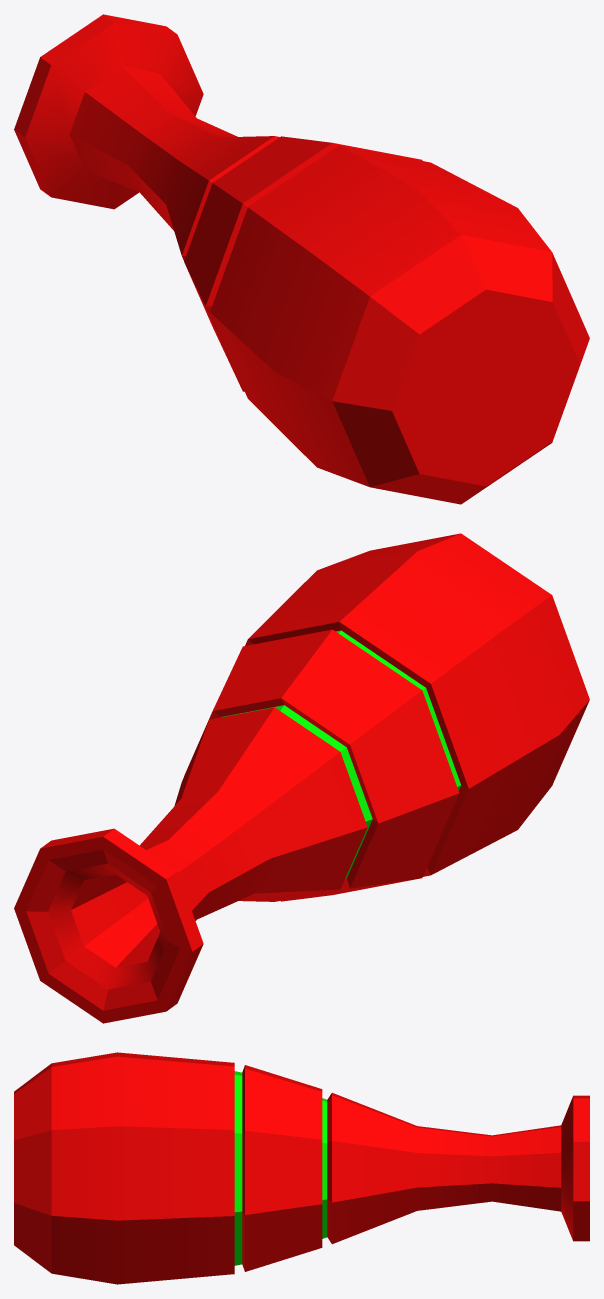
Rendered from Vase_01.fbx.
3 renders of one model, top to bottom at view 1: azimuth 30°, elevation 25°; view 2: azimuth 150°, elevation 25°; view 3: azimuth 270°, elevation 25°, orthographic. The views are drawn at different scales.
Parts seen in each view (by area): view 1: Vase_01; view 2: Vase_01; view 3: Vase_01.
Boxes of the visible parts, x1,y1,x2,y2 form: Vase_01: [14, 14, 589, 504]; Vase_01: [14, 533, 589, 1023]; Vase_01: [14, 1052, 589, 1284].
Bounding box in the file's own units: 40.57 × 40.57 × 94.6.
